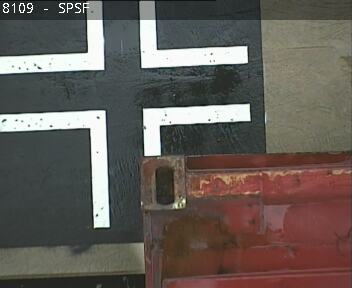groundmarker_1: (1, 100, 249, 227), (1, 1, 249, 74)
